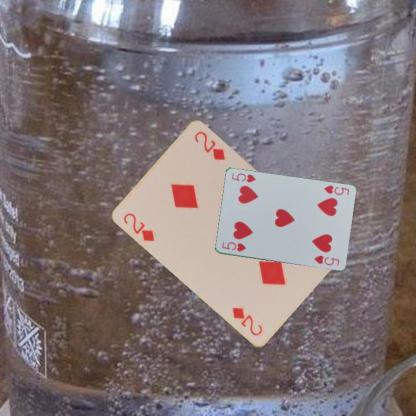2d: (121, 210, 156, 243)
5h: (321, 182, 350, 196), (219, 239, 247, 253)
